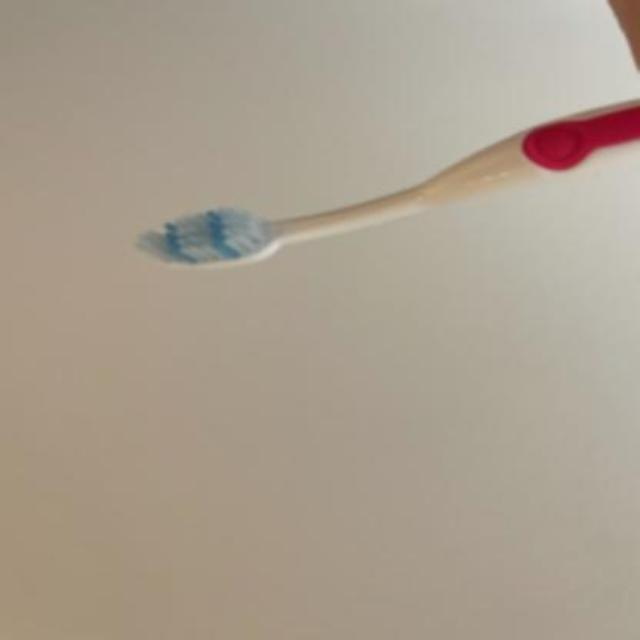toothbrush: (124, 92, 640, 284)
